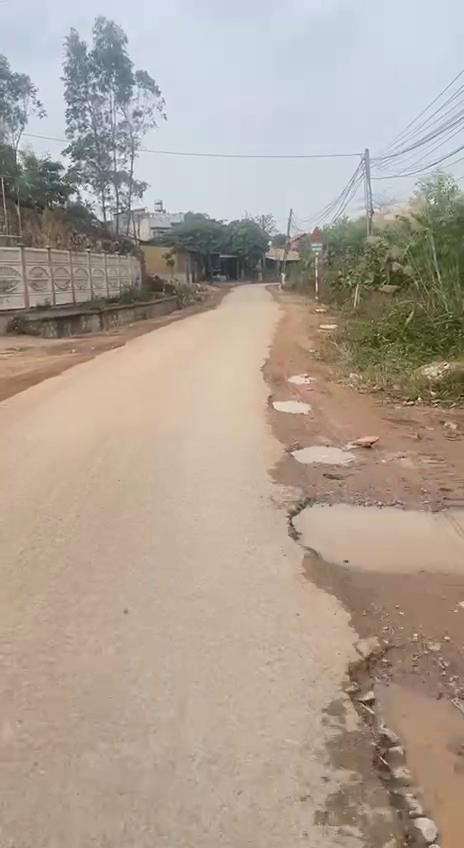pothole: (344, 640, 464, 848), (276, 484, 464, 581), (286, 438, 361, 469), (268, 390, 314, 420)
